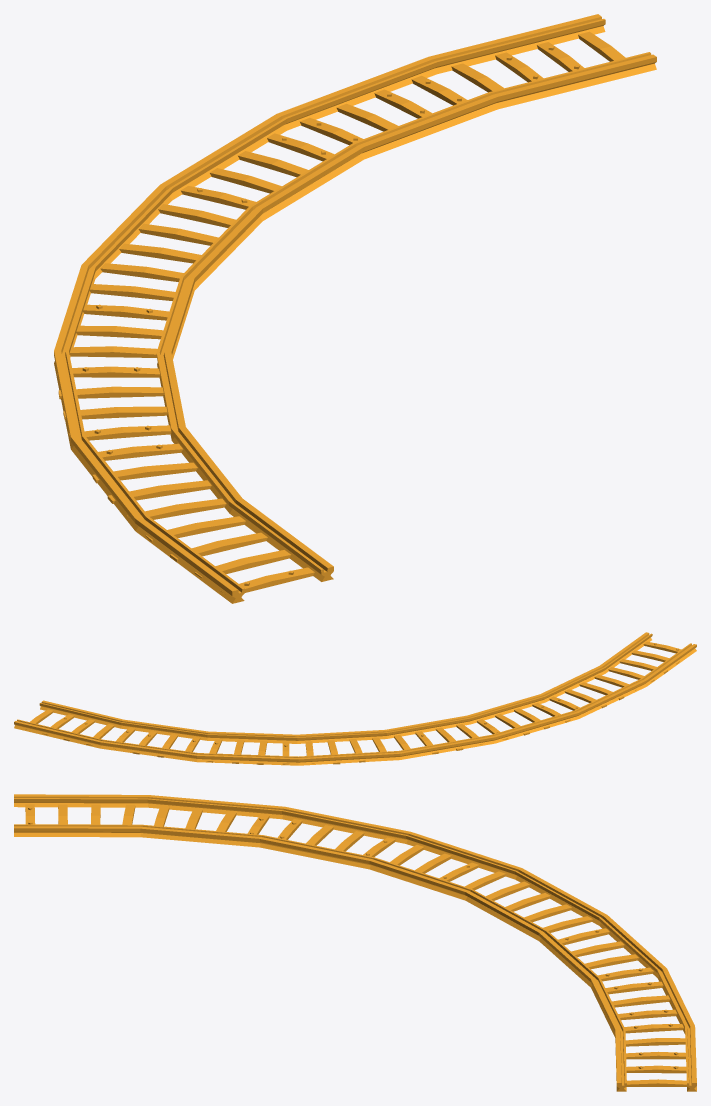
Rendered from SM_Rail_Tram_Turn_10m.fbx.
3 views of the same model, one above another, from view 1: azimuth 30°, elevation 25°; view 2: azimuth 150°, elevation 25°; view 3: azimuth 270°, elevation 25° (orthographic). The views are drawn at different scales.
Parts seen in each view (by area): view 1: rail-tram-turn-10m; view 2: rail-tram-turn-10m; view 3: rail-tram-turn-10m.
Part boxes in pixels (<box>): rail-tram-turn-10m: <box>54,14,656,603</box>; rail-tram-turn-10m: <box>14,632,696,765</box>; rail-tram-turn-10m: <box>14,794,696,1091</box>.
Size of the model in its own units: 10.62 by 0.1529 by 10.62.
